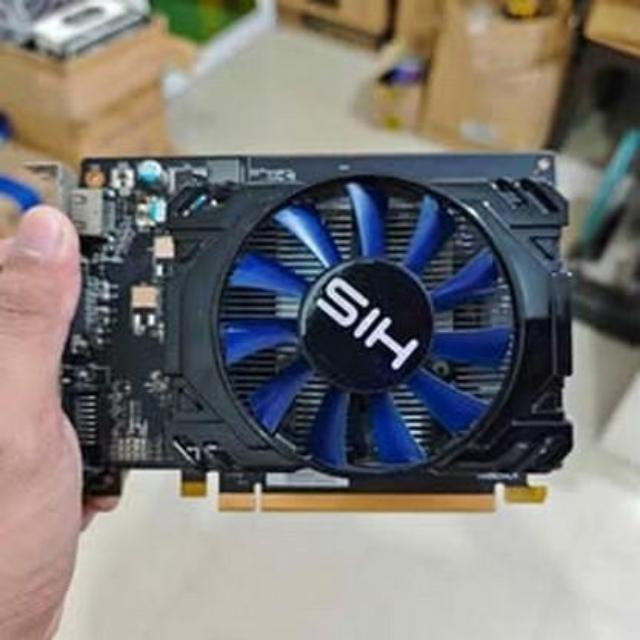GPU: (43, 146, 572, 514)
